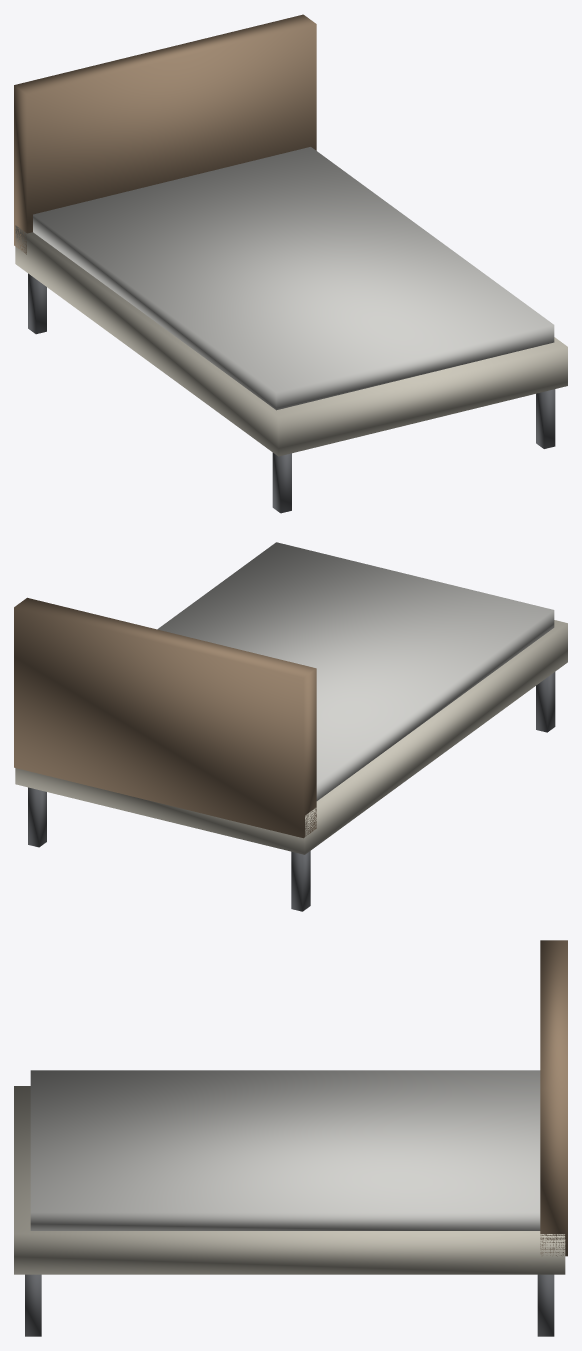
Rendered from motel_bed__deep.glb.
3 views of the same model, one above another, from view 1: azimuth 30°, elevation 25°; view 2: azimuth 150°, elevation 25°; view 3: azimuth 270°, elevation 25° (orthographic). The views are drawn at different scales.
Parts seen in each view (by area): view 1: world; view 2: world; view 3: world.
Boxes of the visible parts, x1,y1,x2,y2 form: world: (14, 14, 567, 513); world: (14, 542, 567, 911); world: (14, 940, 567, 1336).
Bounding box in the file's own units: 1.55 × 1.23 × 2.45.
